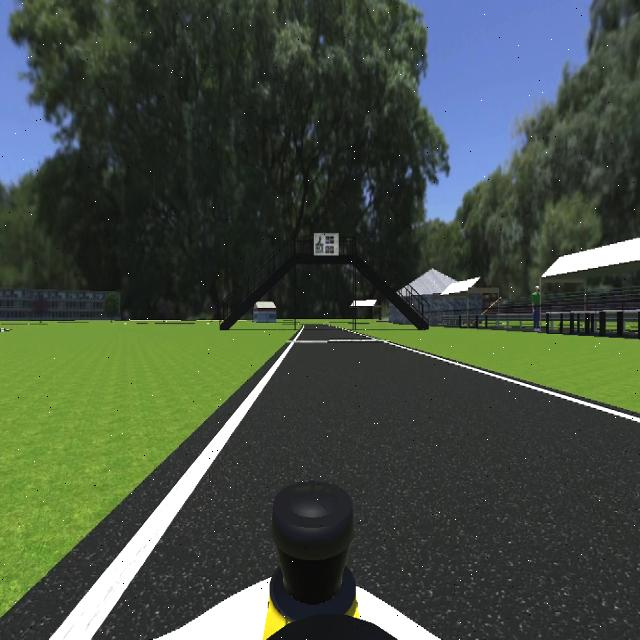road: (93, 343, 640, 640)
solid_line: (48, 345, 291, 640), (382, 339, 640, 426)
